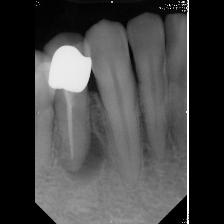apical_lesion: (43, 32, 110, 198)
